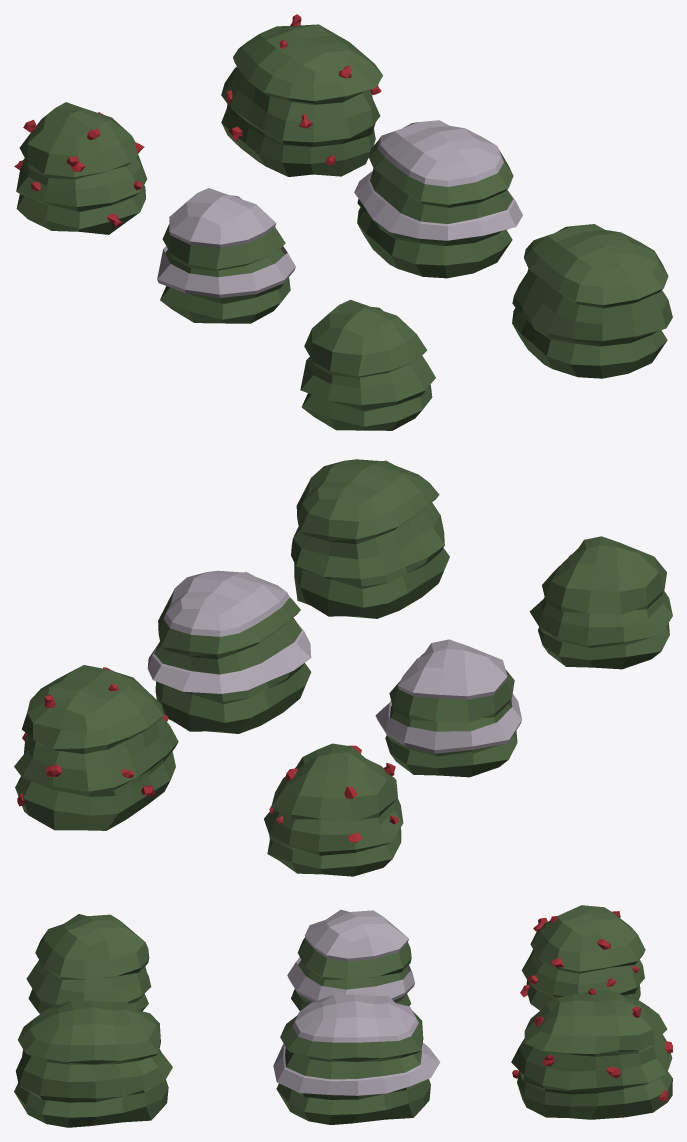
File: bushes.glb
3 renders of one model, top to bottom at view 1: azimuth 30°, elevation 25°; view 2: azimuth 150°, elevation 25°; view 3: azimuth 270°, elevation 25°, orthographic. The views are drawn at different scales.
Parts seen in each view (by area): view 1: Bush_Snow_1, BushBerries_1, Bush_1, Bush_Snow_2, Bush_2, BushBerries_2; view 2: Bush_Snow_1, BushBerries_1, Bush_1, Bush_Snow_2, BushBerries_2, Bush_2; view 3: Bush_Snow_1, BushBerries_1, Bush_1, BushBerries_2, Bush_2, Bush_Snow_2.
Boxes of the visible parts, <box> form: Bush_Snow_1: <box>354,120,522,278</box>; BushBerries_1: <box>221,14,382,176</box>; Bush_1: <box>512,224,672,378</box>; Bush_Snow_2: <box>157,188,295,323</box>; Bush_2: <box>300,299,435,430</box>; BushBerries_2: <box>14,102,147,234</box>; Bush_Snow_1: <box>147,570,311,733</box>; BushBerries_1: <box>14,665,178,830</box>; Bush_1: <box>291,459,449,618</box>; Bush_Snow_2: <box>375,639,521,777</box>; BushBerries_2: <box>264,743,403,876</box>; Bush_2: <box>529,536,672,669</box>; Bush_Snow_1: <box>273,994,440,1124</box>; BushBerries_1: <box>511,988,672,1119</box>; Bush_1: <box>14,1000,172,1127</box>; BushBerries_2: <box>520,905,645,1010</box>; Bush_2: <box>26,914,151,1013</box>; Bush_Snow_2: <box>287,909,414,1010</box>.
Size of the model in its own units: 4.78 by 1.58 by 8.33.
